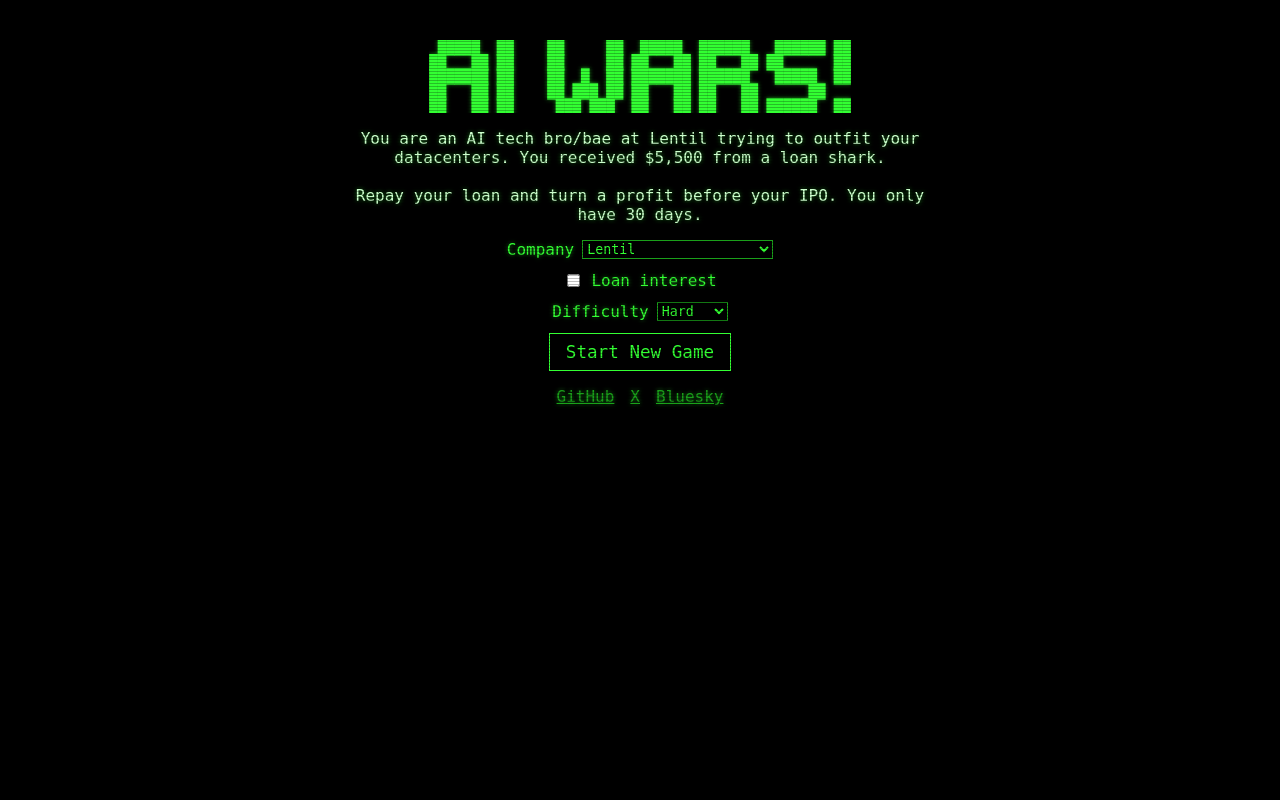
Test: AiWars › shows city, day and money totals together in the stats panel
Select "SMuC" in the dropdown labelled "Company" at (678, 250), box [582, 240, 773, 259]
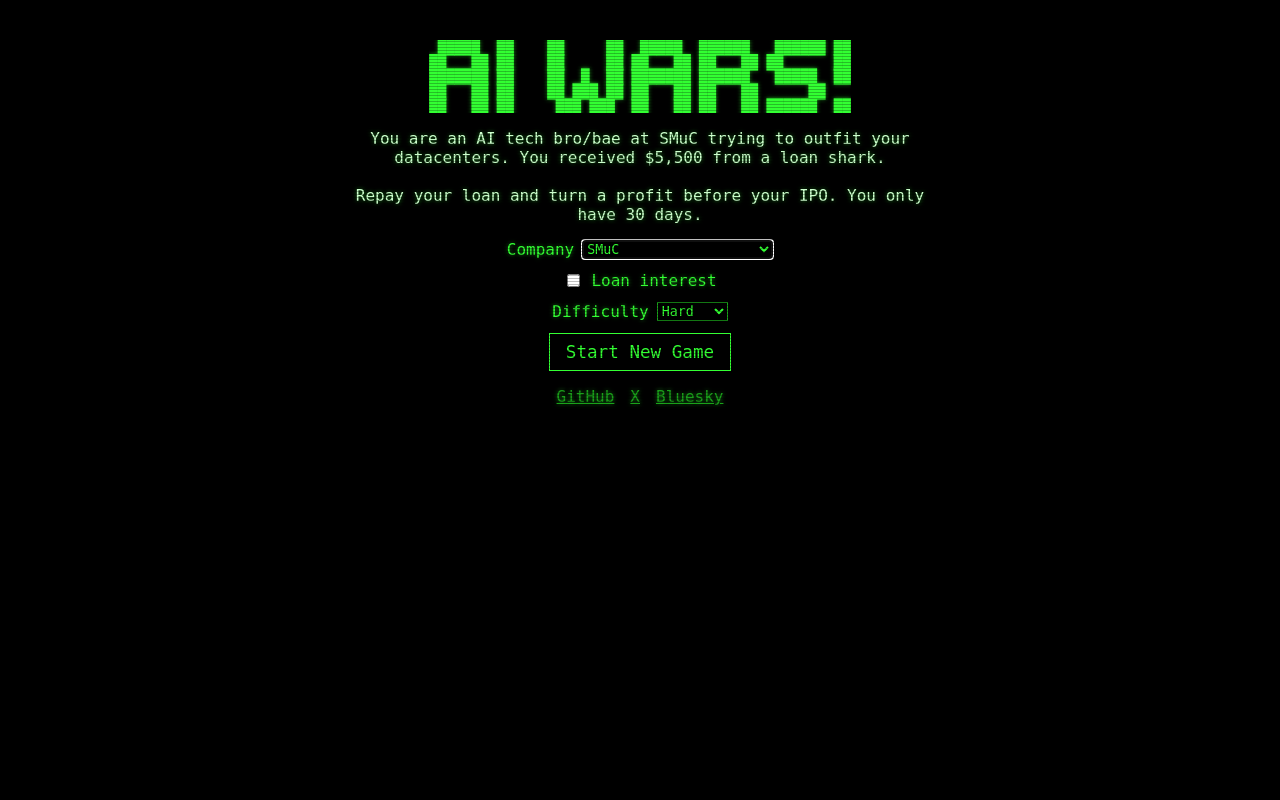
Click the button "Start New Game".
click(640, 352)  # box [549, 333, 731, 371]
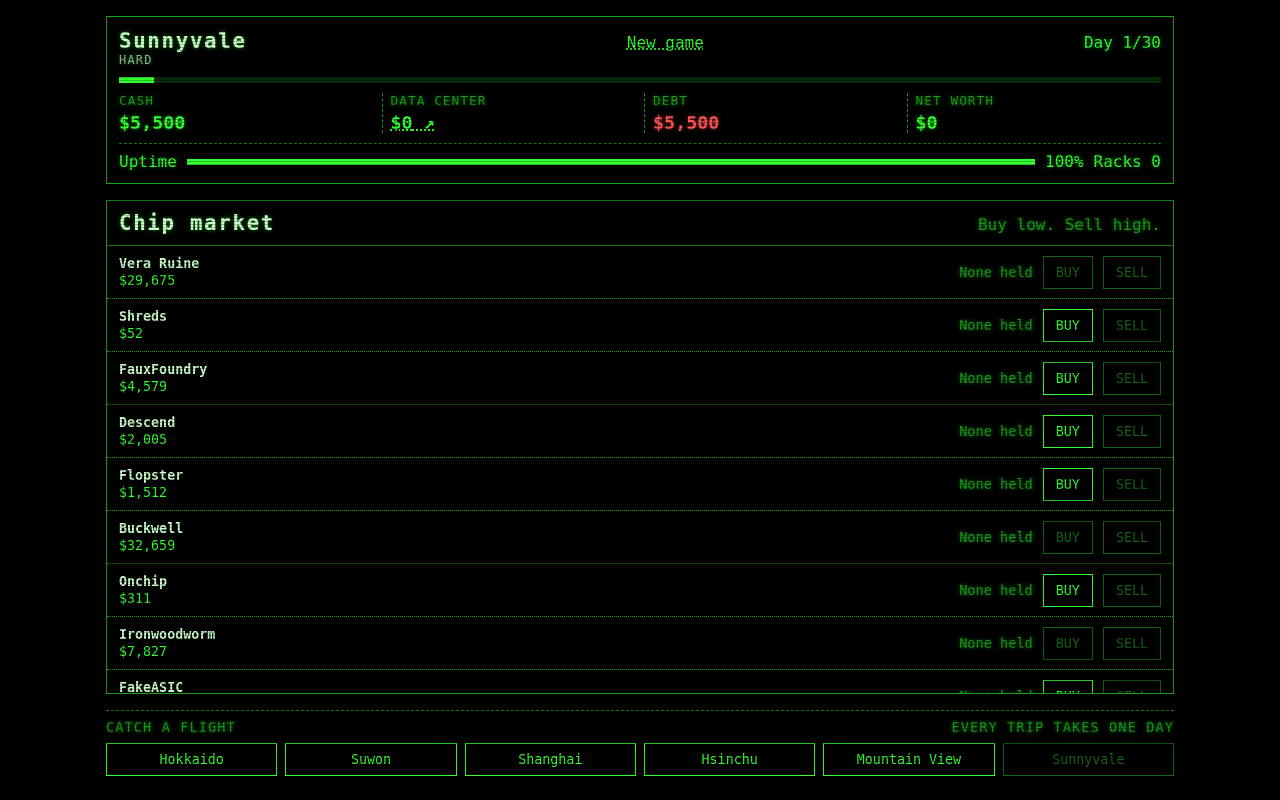
Expected: the heading "Sunnyvale" is shown, [119, 29, 247, 53]
Expected: the text "Day 1/30" is shown, [1084, 33, 1161, 52]
